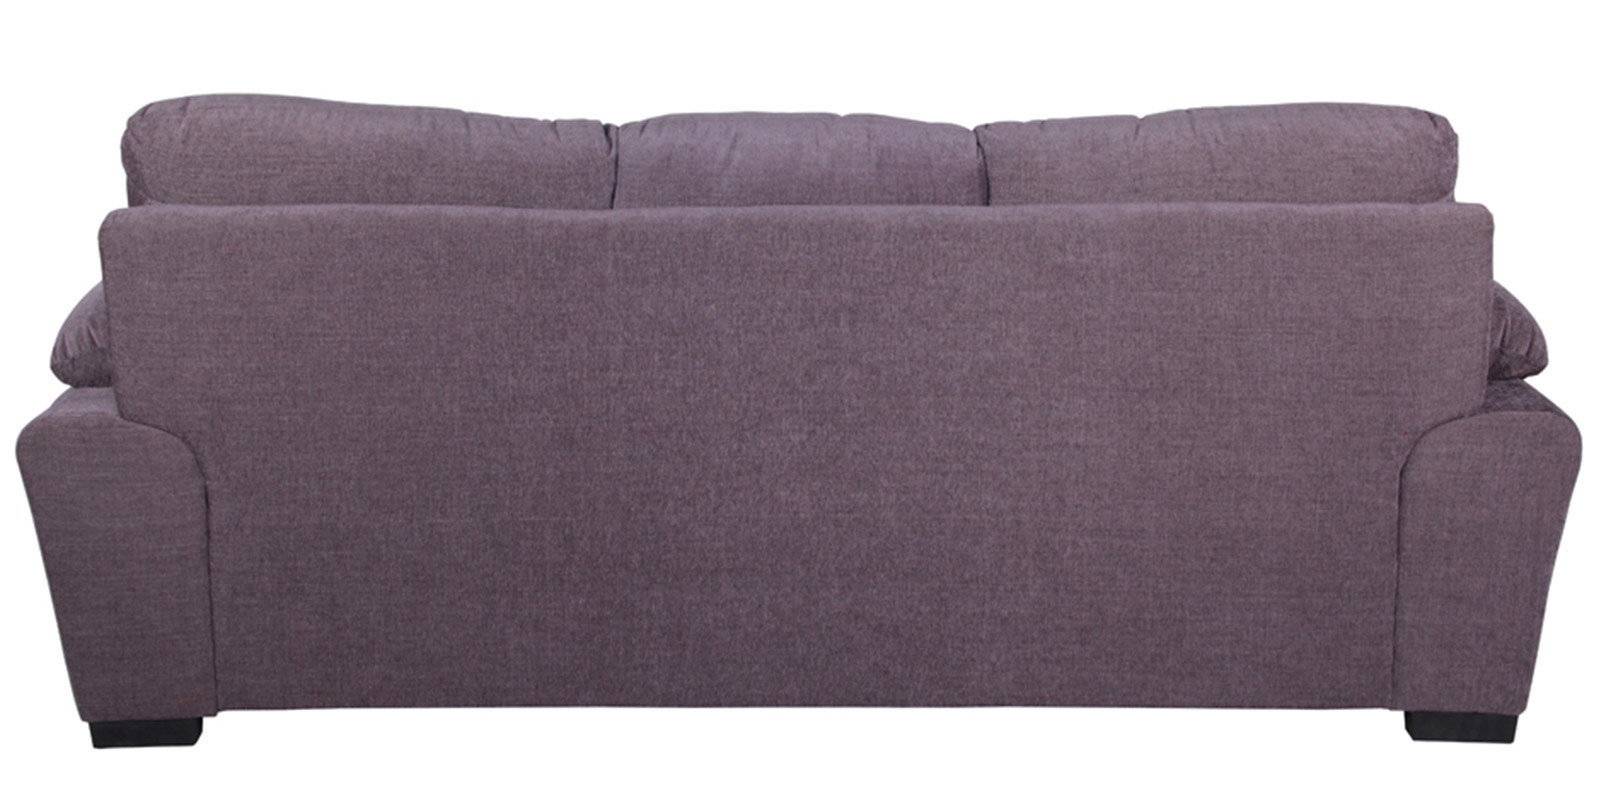Brass Three Seater Sofa in Dark Grey Colour by Furniture Mind: (11, 82, 1590, 776)
